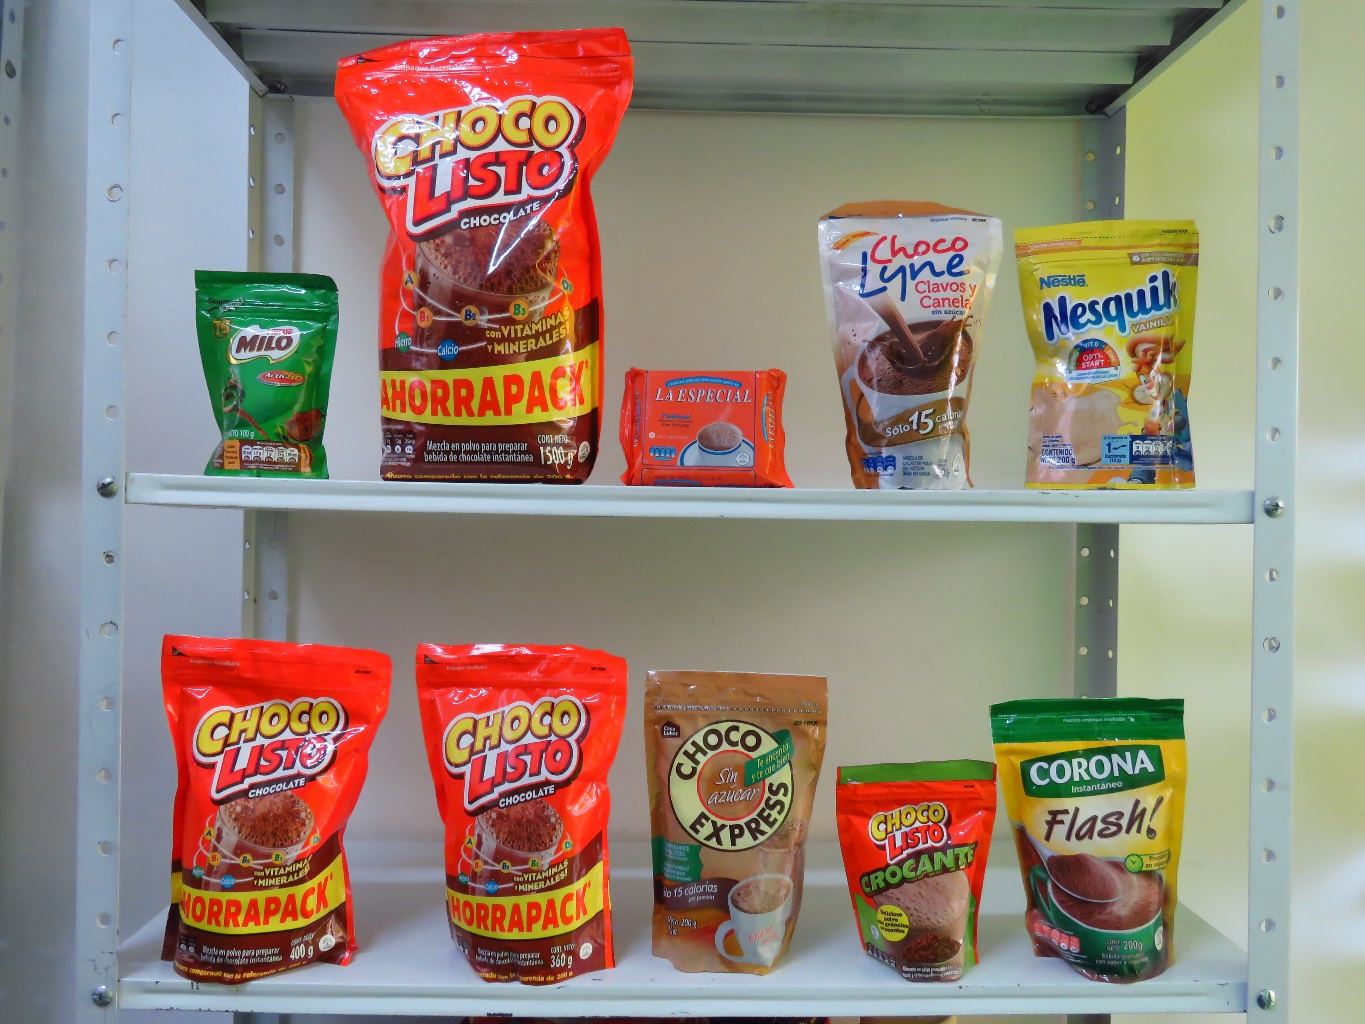COL0170102DYP10000: (826, 746, 1006, 993)
COL0170103DYP1,500: (315, 10, 654, 490)
COL0170103DYP36000: (394, 622, 627, 1002)
COL0170103DYP40000: (143, 618, 403, 989)
COL0170203DYP10000: (170, 245, 344, 484)
COL0170306DYP20000: (1007, 208, 1217, 499)
